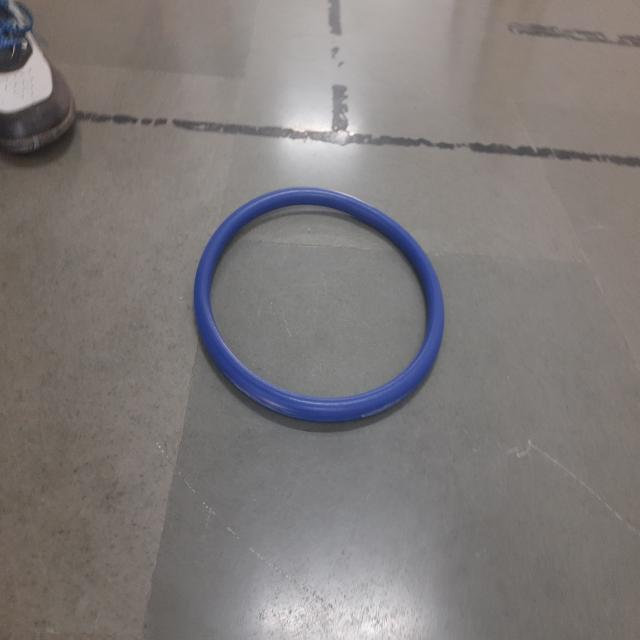daire: (199, 190, 446, 435)
